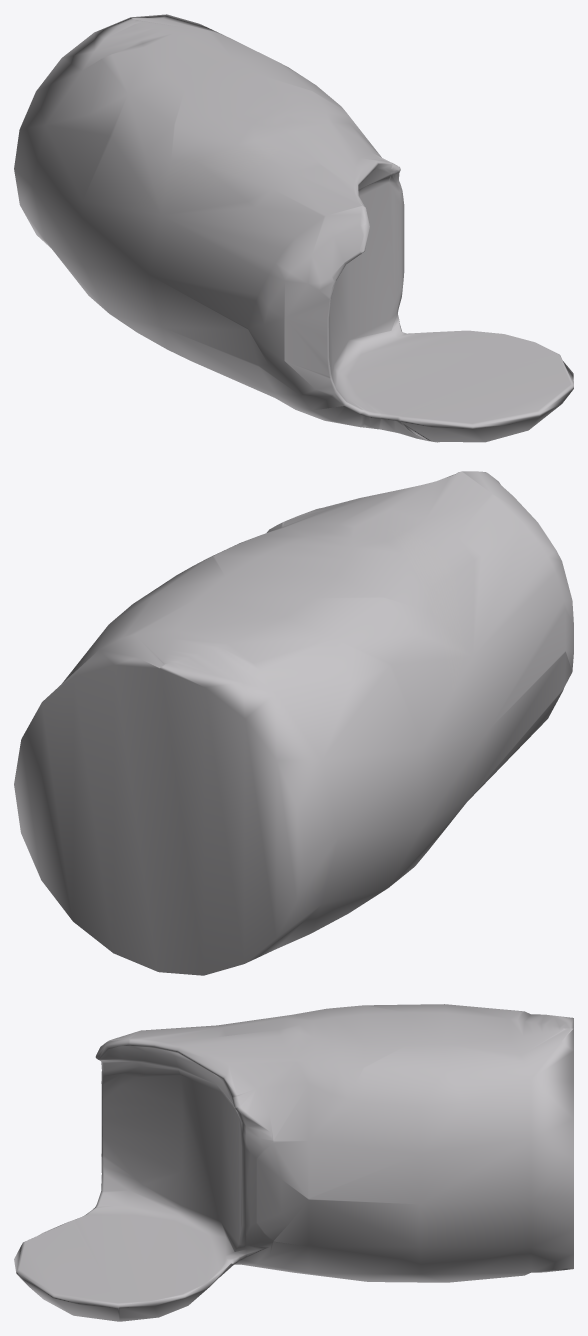
Rendered from Right_Upper_Arm.dae.
The picture shows the model from 3 angles, top to bottom: view 1: azimuth 30°, elevation 25°; view 2: azimuth 150°, elevation 25°; view 3: azimuth 270°, elevation 25°; orthographic projection. The views are drawn at different scales.
Parts seen in each view (by area): view 1: Mesh; view 2: Mesh; view 3: Mesh.
Part boxes in pixels (bbox=[...]): Mesh: bbox=[14, 14, 573, 442]; Mesh: bbox=[14, 471, 573, 975]; Mesh: bbox=[14, 1004, 573, 1321].
Bounding box in the file's own units: 0.1922 × 0.1422 × 0.3146.
1 material, 1 textured.
